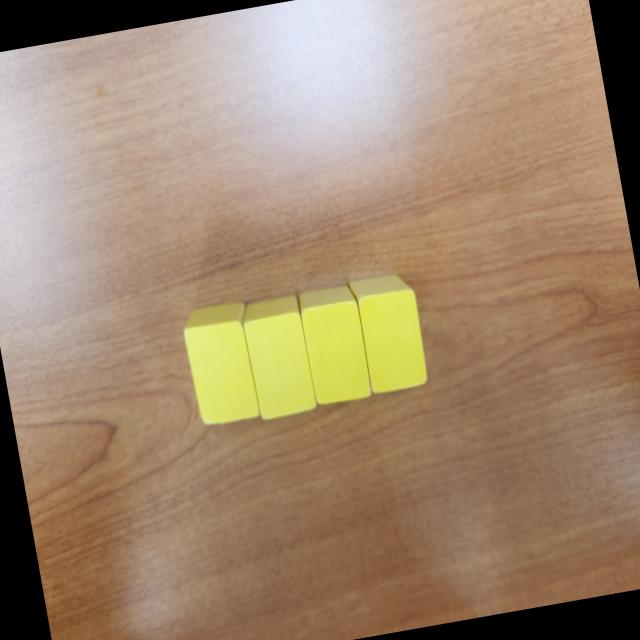yellow: (178, 299, 264, 428), (346, 271, 431, 397), (240, 294, 318, 422), (296, 284, 374, 406)
